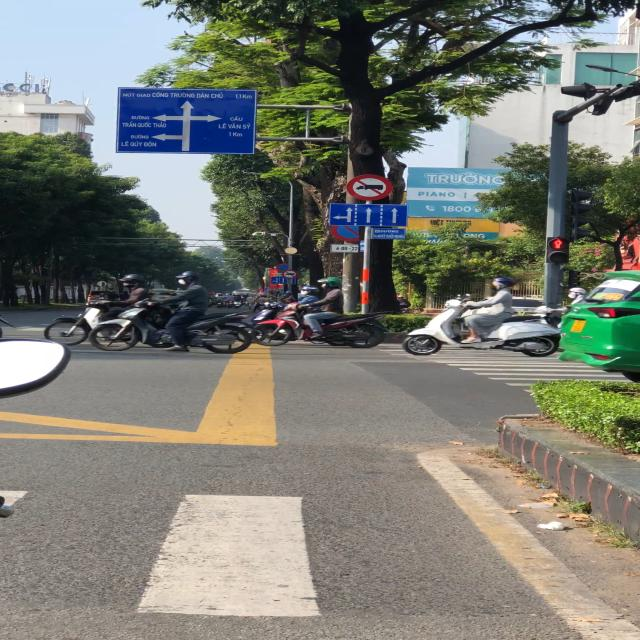Bien bao cam xe so-mi ro-mooc: (343, 171, 394, 202), (281, 268, 298, 280)
